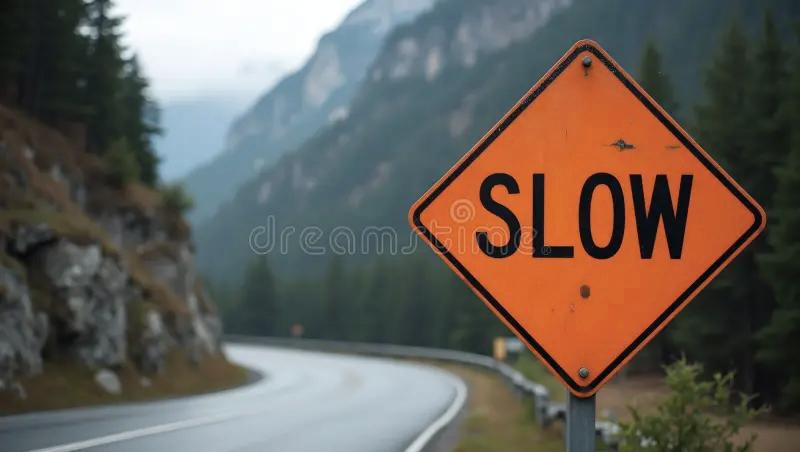Slow: (413, 48, 759, 385)
